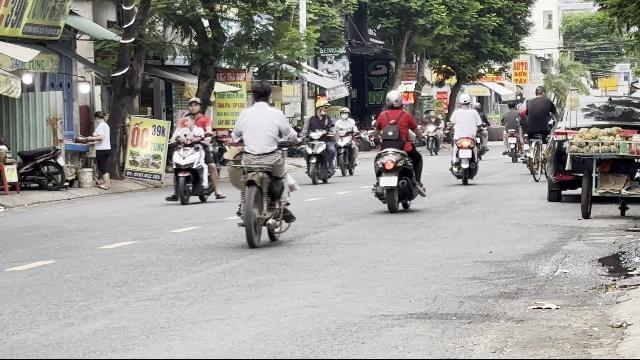helmet: (384, 89, 404, 109), (187, 97, 203, 114)
licenseplate: (380, 177, 398, 187)
motorcyclist: (224, 80, 300, 248), (369, 90, 427, 212), (165, 96, 222, 206)
nohelmet: (250, 81, 274, 105), (182, 113, 198, 129)
